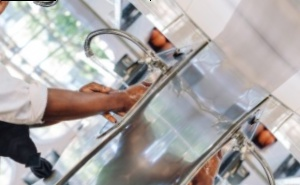washing hand: (25, 0, 176, 148)
